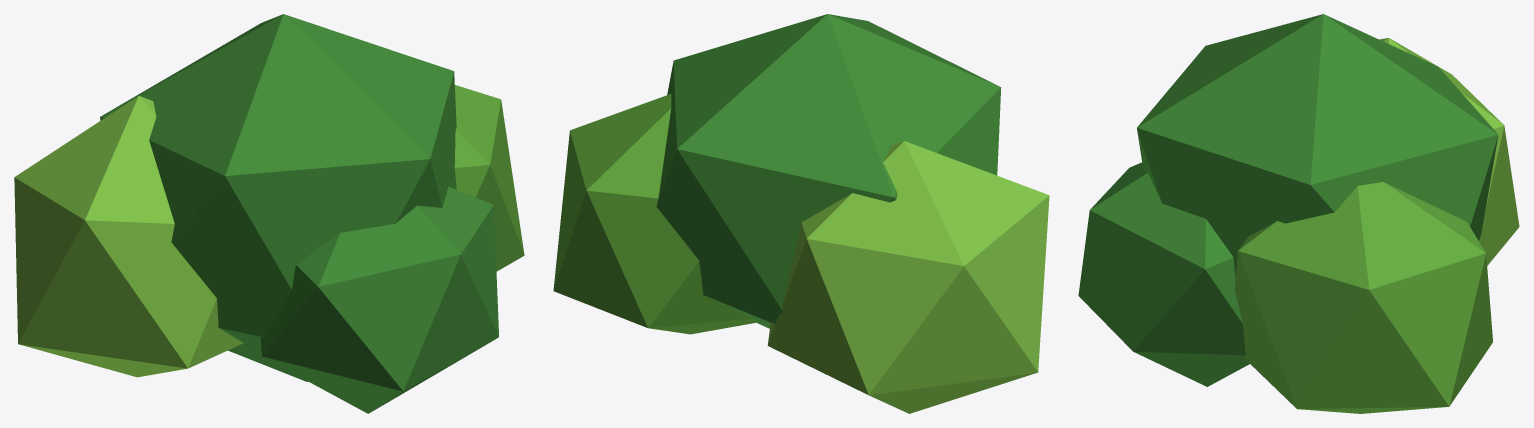
Rendered from shrub_round.glb.
3 renders of one model, left to right at view 1: azimuth 30°, elevation 25°; view 2: azimuth 150°, elevation 25°; view 3: azimuth 270°, elevation 25°, orthographic. The views are drawn at different scales.
Parts seen in each view (by area): view 1: shrub_round; view 2: shrub_round; view 3: shrub_round.
Boxes of the visible parts, x1,y1,x2,y2 form: shrub_round: (14, 14, 524, 413); shrub_round: (553, 14, 1049, 413); shrub_round: (1078, 14, 1519, 413).
Bounding box in the file's own units: 0.8613 × 0.6217 × 0.6895.
